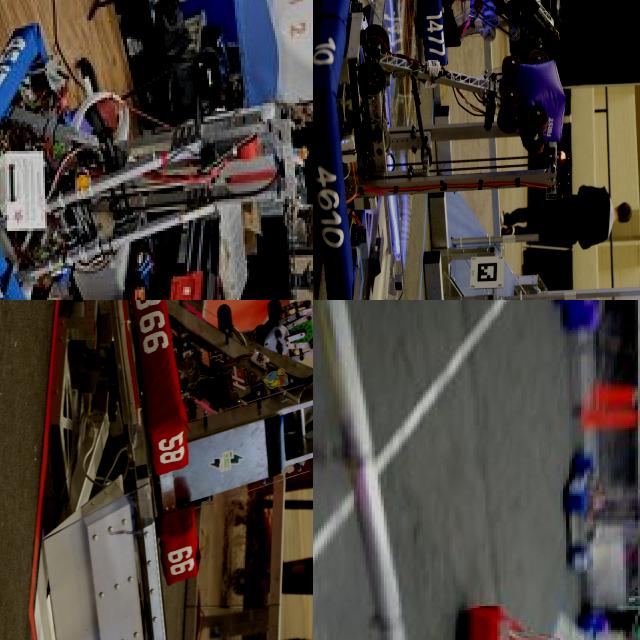FRC-Robots: (0, 0, 312, 300), (313, 0, 570, 300), (111, 300, 313, 602), (447, 484, 640, 640), (403, 0, 584, 73)
